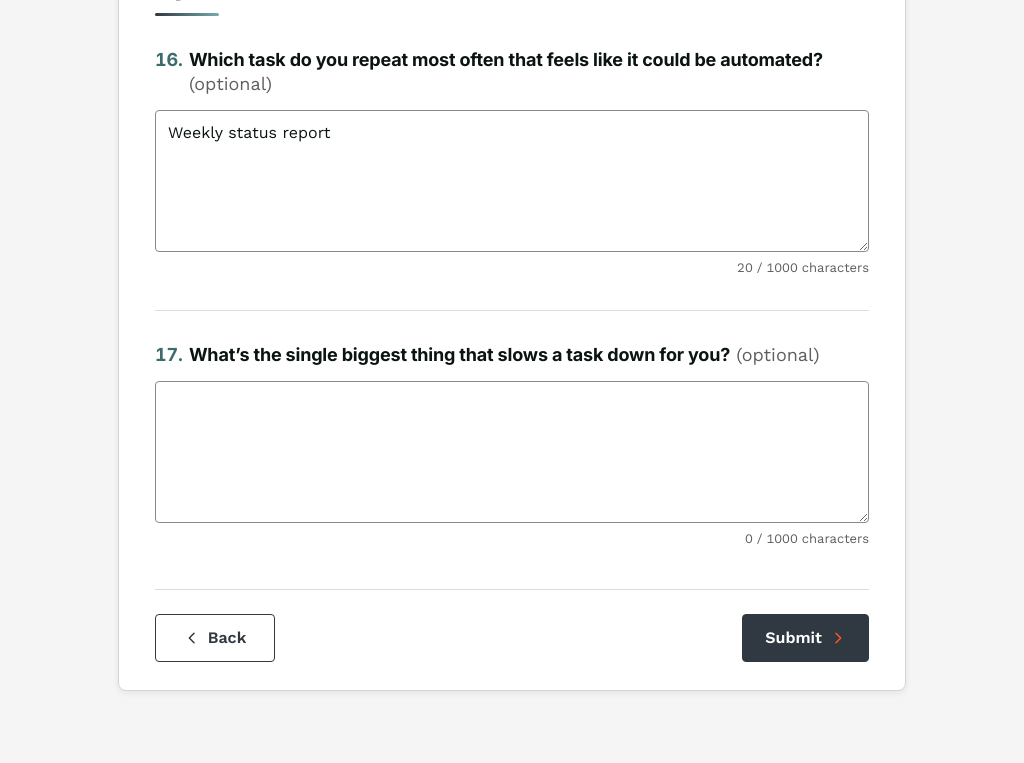
it: submission › shows the JSON, a download button, and keeps saved answers when the POST fails
The width and height of the screenshot is (1024, 763).
(page scrolled)
Click the button "Submit": (806, 638) [742,614,869,662]
(page scrolled)
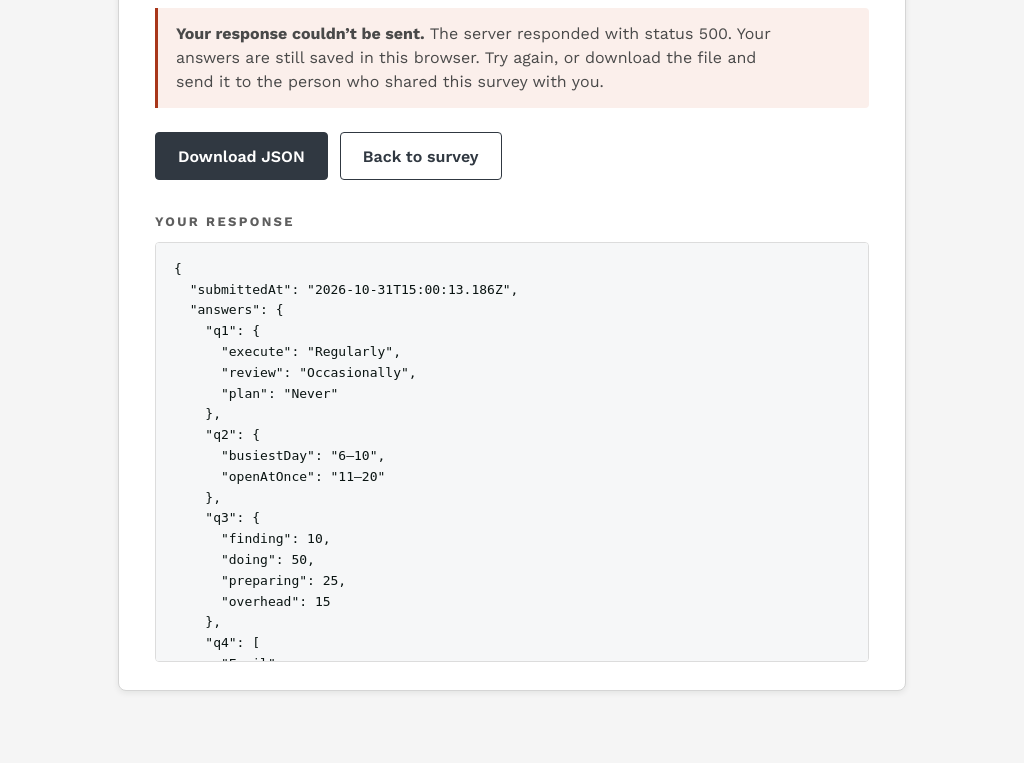
Check: the message shows "status 500", box [430,24,732,43]
Check: the button "Download JSON" is shown, box [155,132,328,180]
